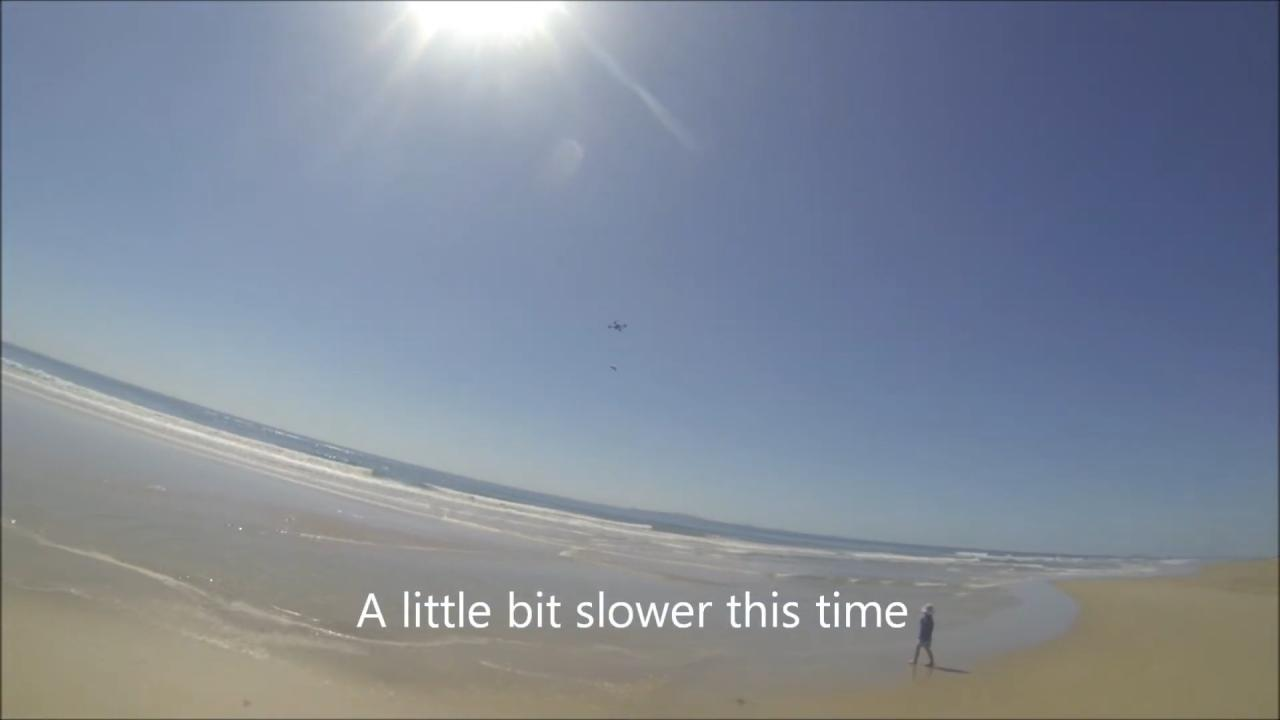Drone: (602, 312, 634, 340)
